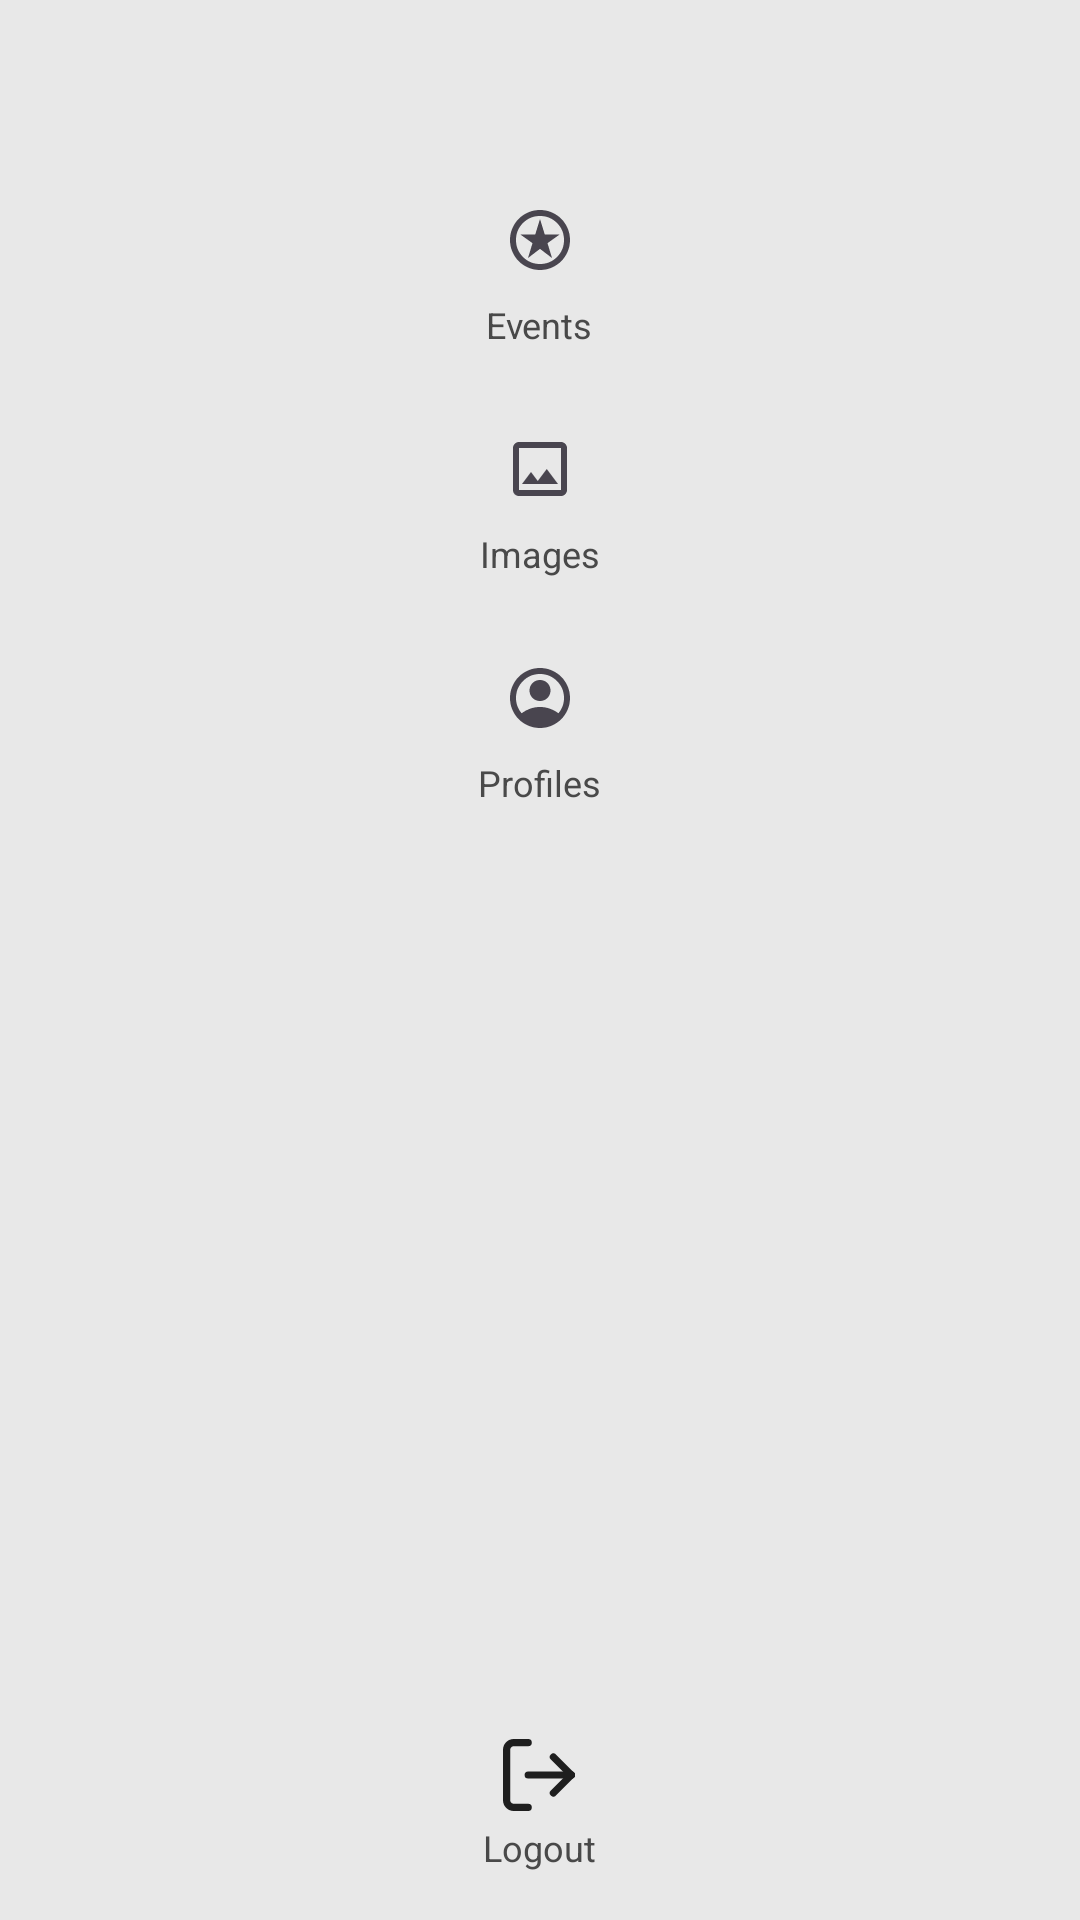

Screen size 1080 x 1920. Icon name, then its box in pixels as (x1, y1, x2, y2):
star: (510, 210, 570, 270)
